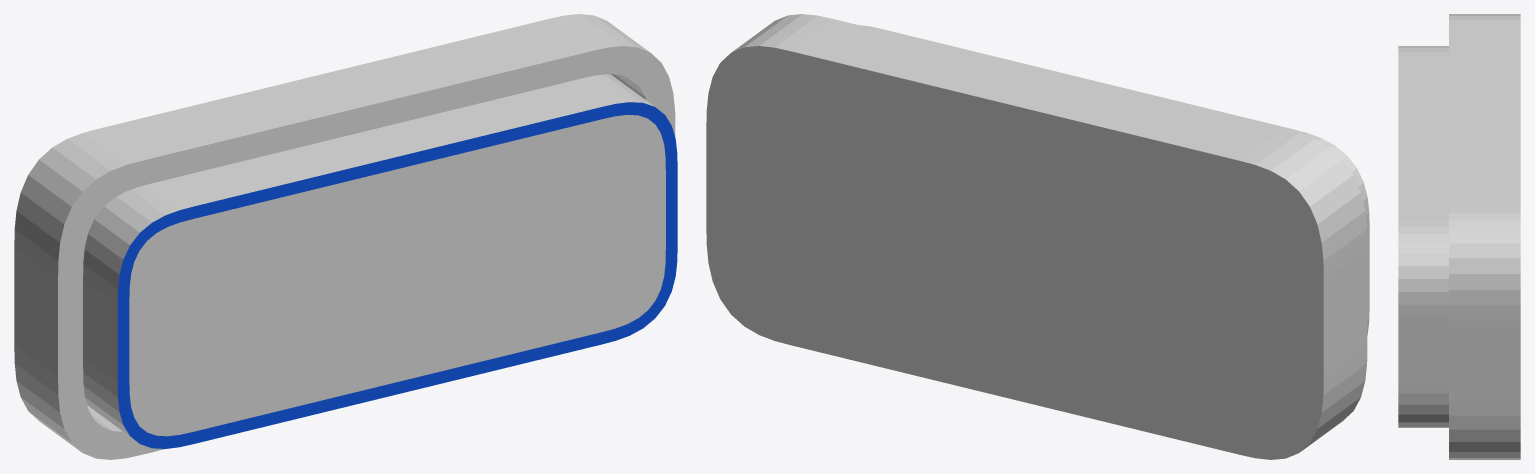
The model's file is Button.fbx.
The picture shows the model from 3 angles, left to right: view 1: azimuth 30°, elevation 25°; view 2: azimuth 150°, elevation 25°; view 3: azimuth 270°, elevation 25°; orthographic projection. The views are drawn at different scales.
Visible parts, largest first — view 1: Button, Button Case; view 2: Button Case, Button; view 3: Button Case, Button.
Part boxes in pixels (x1,y1,x2,y2): Button: (83,74,677,448); Button Case: (14,14,675,459); Button Case: (706,14,1367,459); Button: (860,25,1369,335); Button Case: (1449,14,1520,459); Button: (1398,46,1448,427).
Size of the model in its own units: 0.4079 by 0.1856 by 0.0853.
